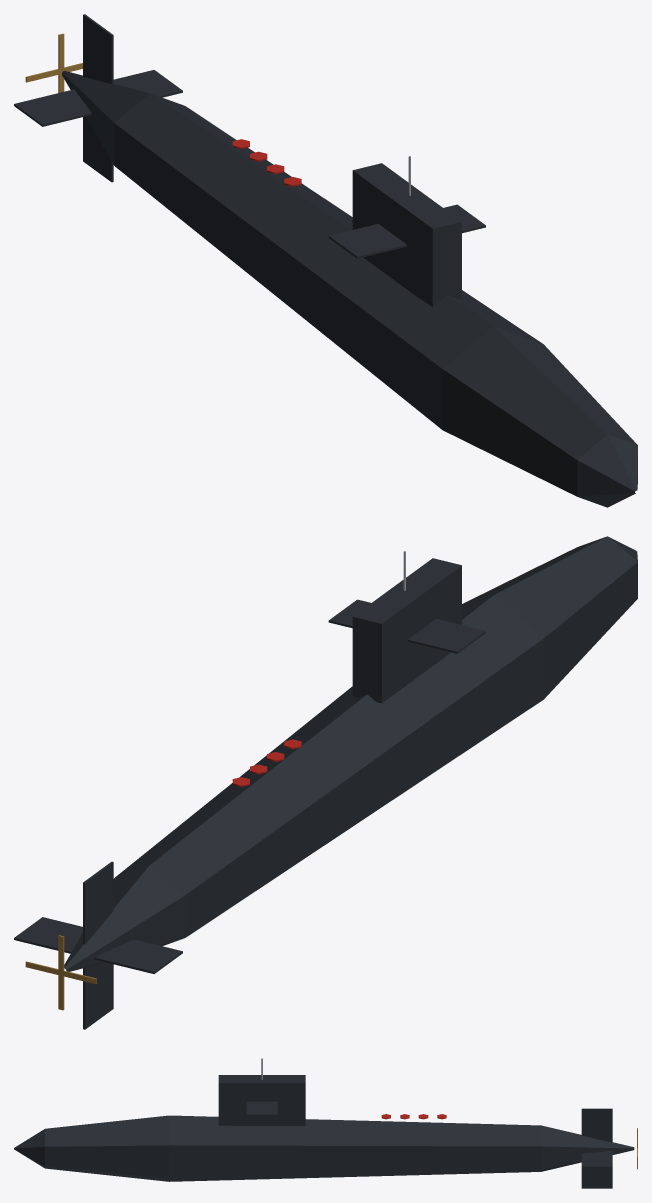
The model's file is veh_naval_submarine_a08_lod1.glb.
3 views of the same model, one above another, from view 1: azimuth 30°, elevation 25°; view 2: azimuth 150°, elevation 25°; view 3: azimuth 270°, elevation 25° (orthographic). The views are drawn at different scales.
Parts seen in each view (by area): view 1: body, propeller; view 2: body, propeller; view 3: body.
Part boxes in pixels (box(x1,y1,x2,y2)): body: box(14, 14, 637, 507); propeller: box(25, 33, 82, 92); body: box(14, 536, 637, 1029); propeller: box(25, 935, 96, 1010); body: box(14, 1058, 634, 1188).
Size of the model in its own units: 5.66 by 9.29 by 40.23.
